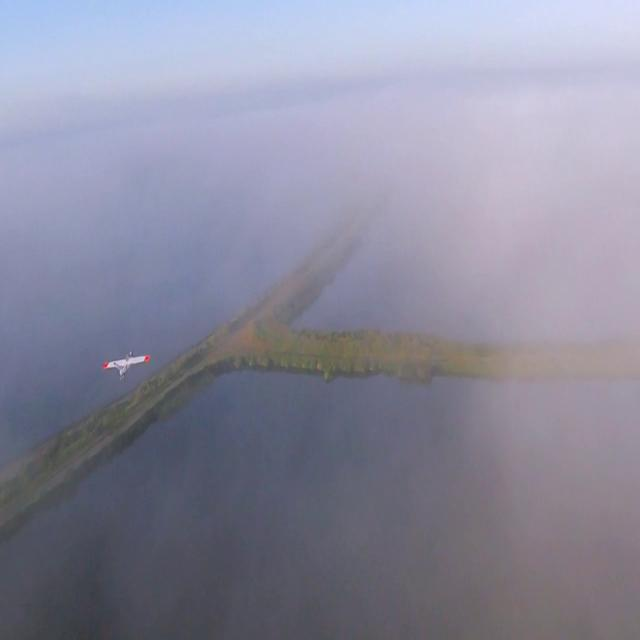iha: (36, 351, 88, 382)
